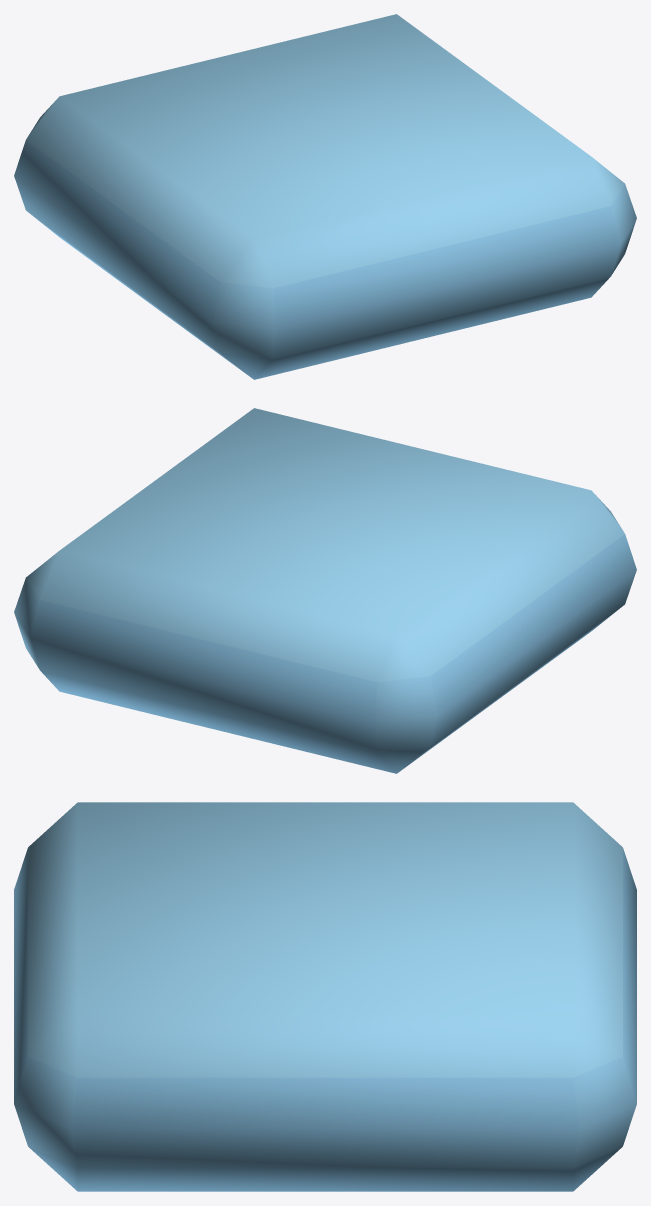
Rendered from Towel Blue.glb.
3 renders of one model, top to bottom at view 1: azimuth 30°, elevation 25°; view 2: azimuth 150°, elevation 25°; view 3: azimuth 270°, elevation 25°, orthographic. The views are drawn at different scales.
Parts seen in each view (by area): view 1: towel_blue; view 2: towel_blue; view 3: towel_blue.
Part boxes in pixels (x1=…): towel_blue: x1=14, y1=14, x2=636, y2=379; towel_blue: x1=14, y1=408, x2=636, y2=773; towel_blue: x1=14, y1=802, x2=636, y2=1191.
Bounding box in the file's own units: 0.6284 × 0.2 × 0.6284.
Materials: 1 (1 with a texture image).
